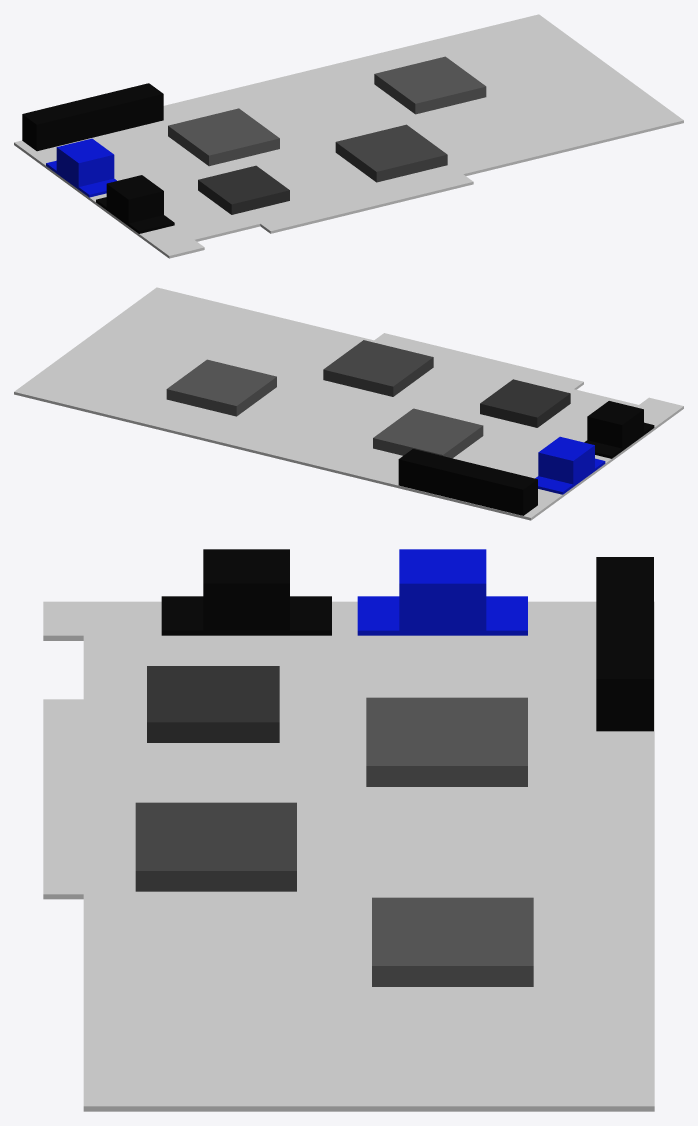
Rendered from voodoo2.fbx.
The picture shows the model from 3 angles, top to bottom: view 1: azimuth 30°, elevation 25°; view 2: azimuth 150°, elevation 25°; view 3: azimuth 270°, elevation 25°; orthographic projection. The views are drawn at different scales.
Visible parts, largest first — view 1: Board, SLI Connector, 3dfx Chip 0009, 3dfx Chip 0010 Dup, 3dfx Chip 0010, GENDAC, Black Connector, Blue Connector; view 2: Board, SLI Connector, 3dfx Chip 0010 Dup, 3dfx Chip 0009, 3dfx Chip 0010, GENDAC, Blue Connector, Black Connector; view 3: Board, 3dfx Chip 0010 Dup, 3dfx Chip 0010, 3dfx Chip 0009, Blue Connector, Black Connector, GENDAC, SLI Connector.
Boxes of the visible parts, x1,y1,x2,y2 form: Board: (14,14,683,258); SLI Connector: (22,83,163,151); 3dfx Chip 0009: (335,124,447,182); 3dfx Chip 0010 Dup: (374,56,486,114); 3dfx Chip 0010: (168,108,279,166); GENDAC: (198,165,289,214); Black Connector: (96,175,174,233); Blue Connector: (46,138,116,197); Board: (14,287,683,520); SLI Connector: (398,449,537,515); 3dfx Chip 0010 Dup: (166,359,276,416); 3dfx Chip 0009: (323,340,433,396); 3dfx Chip 0010: (373,408,483,458); GENDAC: (480,379,570,427); Blue Connector: (535,436,605,494); Black Connector: (584,401,654,458); Board: (43,601,654,1111); 3dfx Chip 0010 Dup: (372,897,533,986); 3dfx Chip 0010: (366,697,527,786); 3dfx Chip 0009: (135,802,296,891); Blue Connector: (357,549,527,635); Black Connector: (161,549,331,635); GENDAC: (147,666,279,742); SLI Connector: (596,557,653,731).
Bounding box in the file's own units: 20.7 × 1.1 × 10.6.
